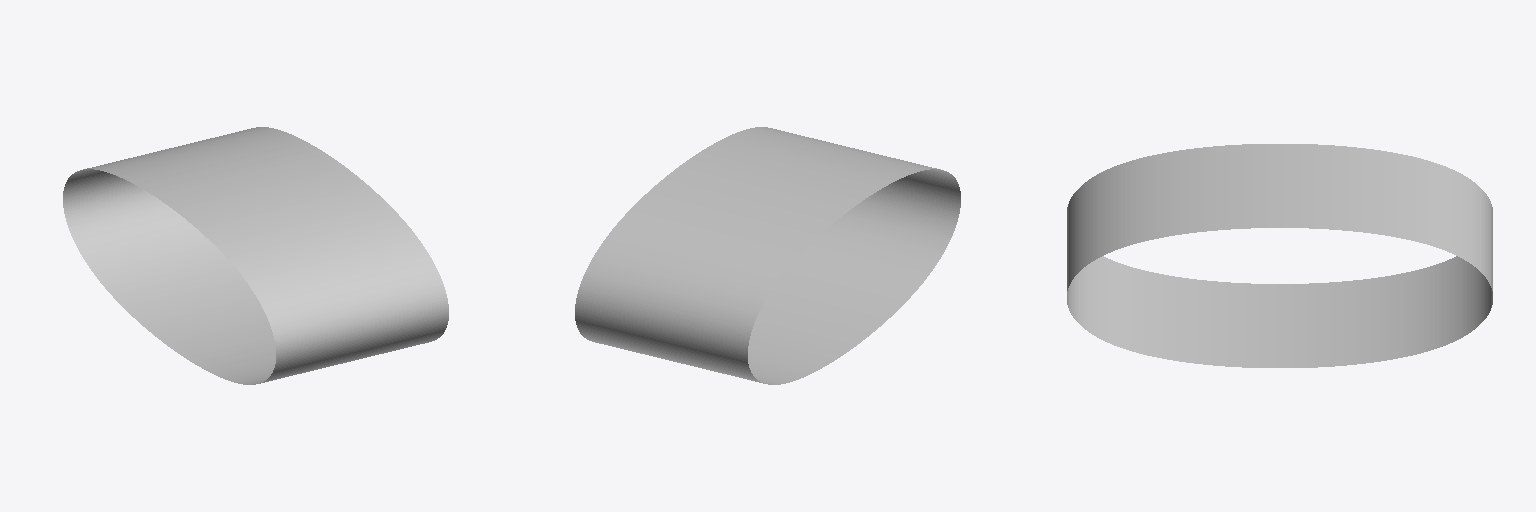
The model's file is loop.obj.
3 views of the same model, side by side, from view 1: azimuth 30°, elevation 25°; view 2: azimuth 150°, elevation 25°; view 3: azimuth 270°, elevation 25° (orthographic).
Parts seen in each view (by area): view 1: Plane; view 2: Plane; view 3: Plane.
Boxes of the visible parts, x1,y1,x2,y2 form: Plane: [63, 127, 448, 384]; Plane: [575, 127, 960, 384]; Plane: [1067, 144, 1492, 367].
Bounding box in the file's own units: 24.97 × 19.38 × 53.35.